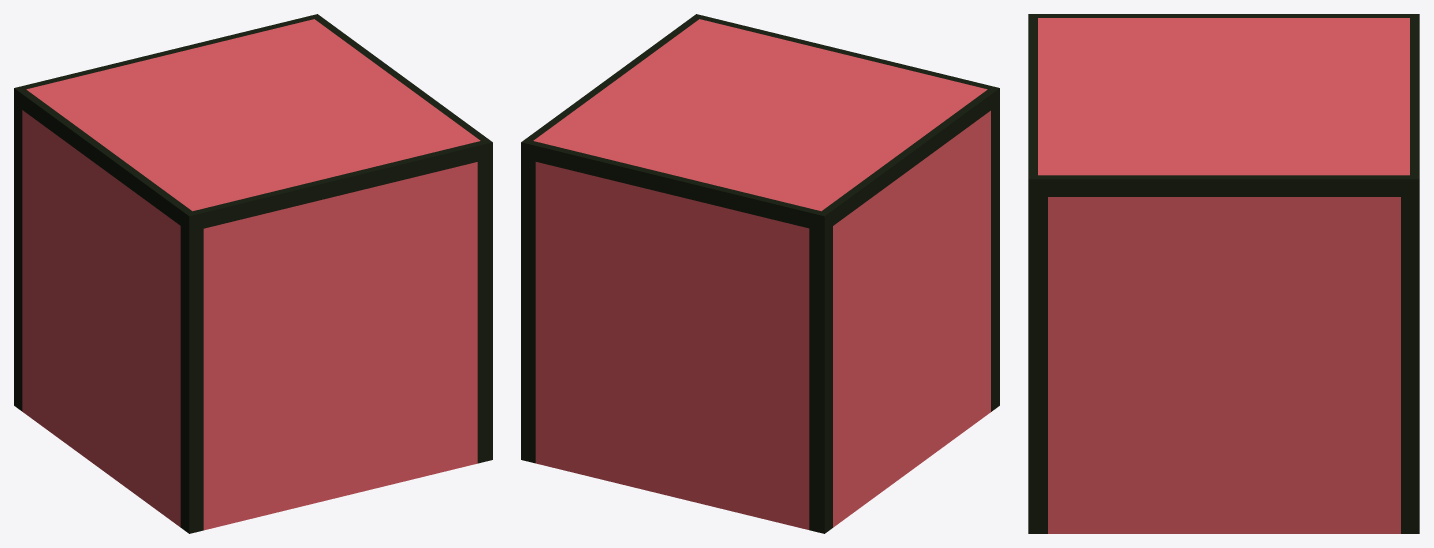
Rendered from BaseCubeOutline005.fbx.
The picture shows the model from 3 angles, left to right: view 1: azimuth 30°, elevation 25°; view 2: azimuth 150°, elevation 25°; view 3: azimuth 270°, elevation 25°; orthographic projection. The views are drawn at different scales.
Visible parts, largest first — view 1: Cube; view 2: Cube; view 3: Cube.
Part boxes in pixels (box(x1,y1,x2,y2)): Cube: box(14, 14, 492, 533); Cube: box(521, 14, 999, 533); Cube: box(1028, 14, 1419, 533).
Bounding box in the file's own units: 1 × 1 × 1.
